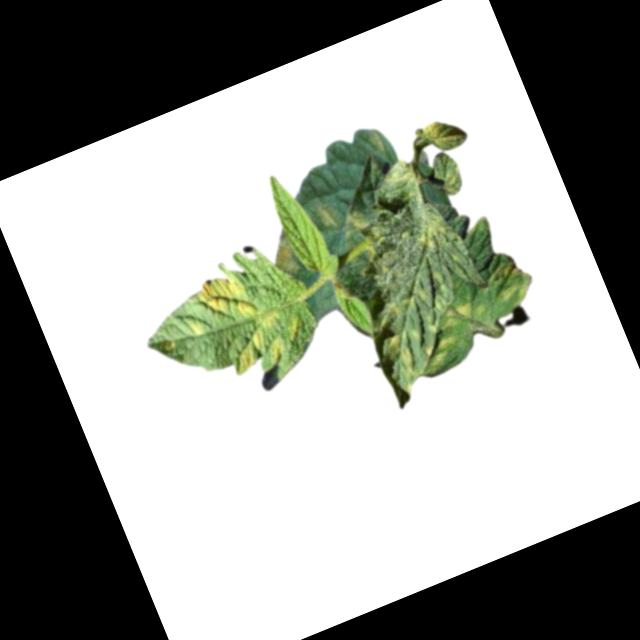Leaf_Mold: (219, 299, 309, 379), (195, 264, 261, 331), (374, 324, 433, 394), (485, 255, 537, 309), (410, 210, 459, 259), (415, 111, 466, 157), (435, 295, 487, 336), (266, 226, 306, 277), (427, 332, 465, 368), (340, 204, 373, 237), (314, 199, 344, 231)
